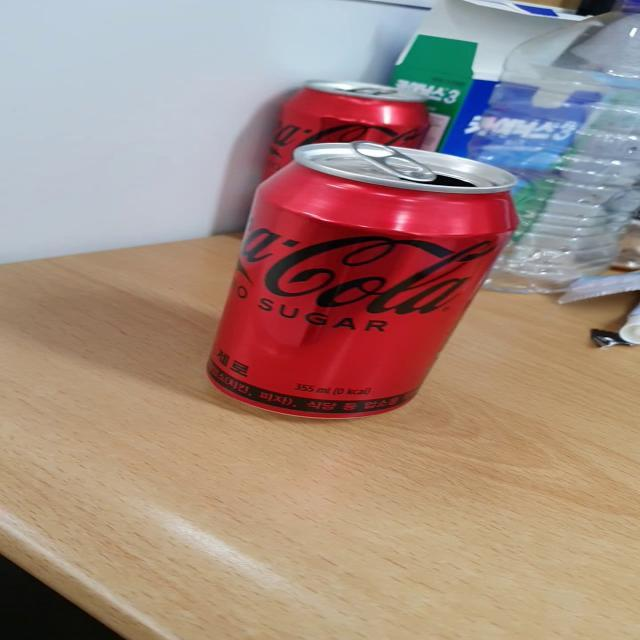coca-cola: (198, 138, 534, 426)
